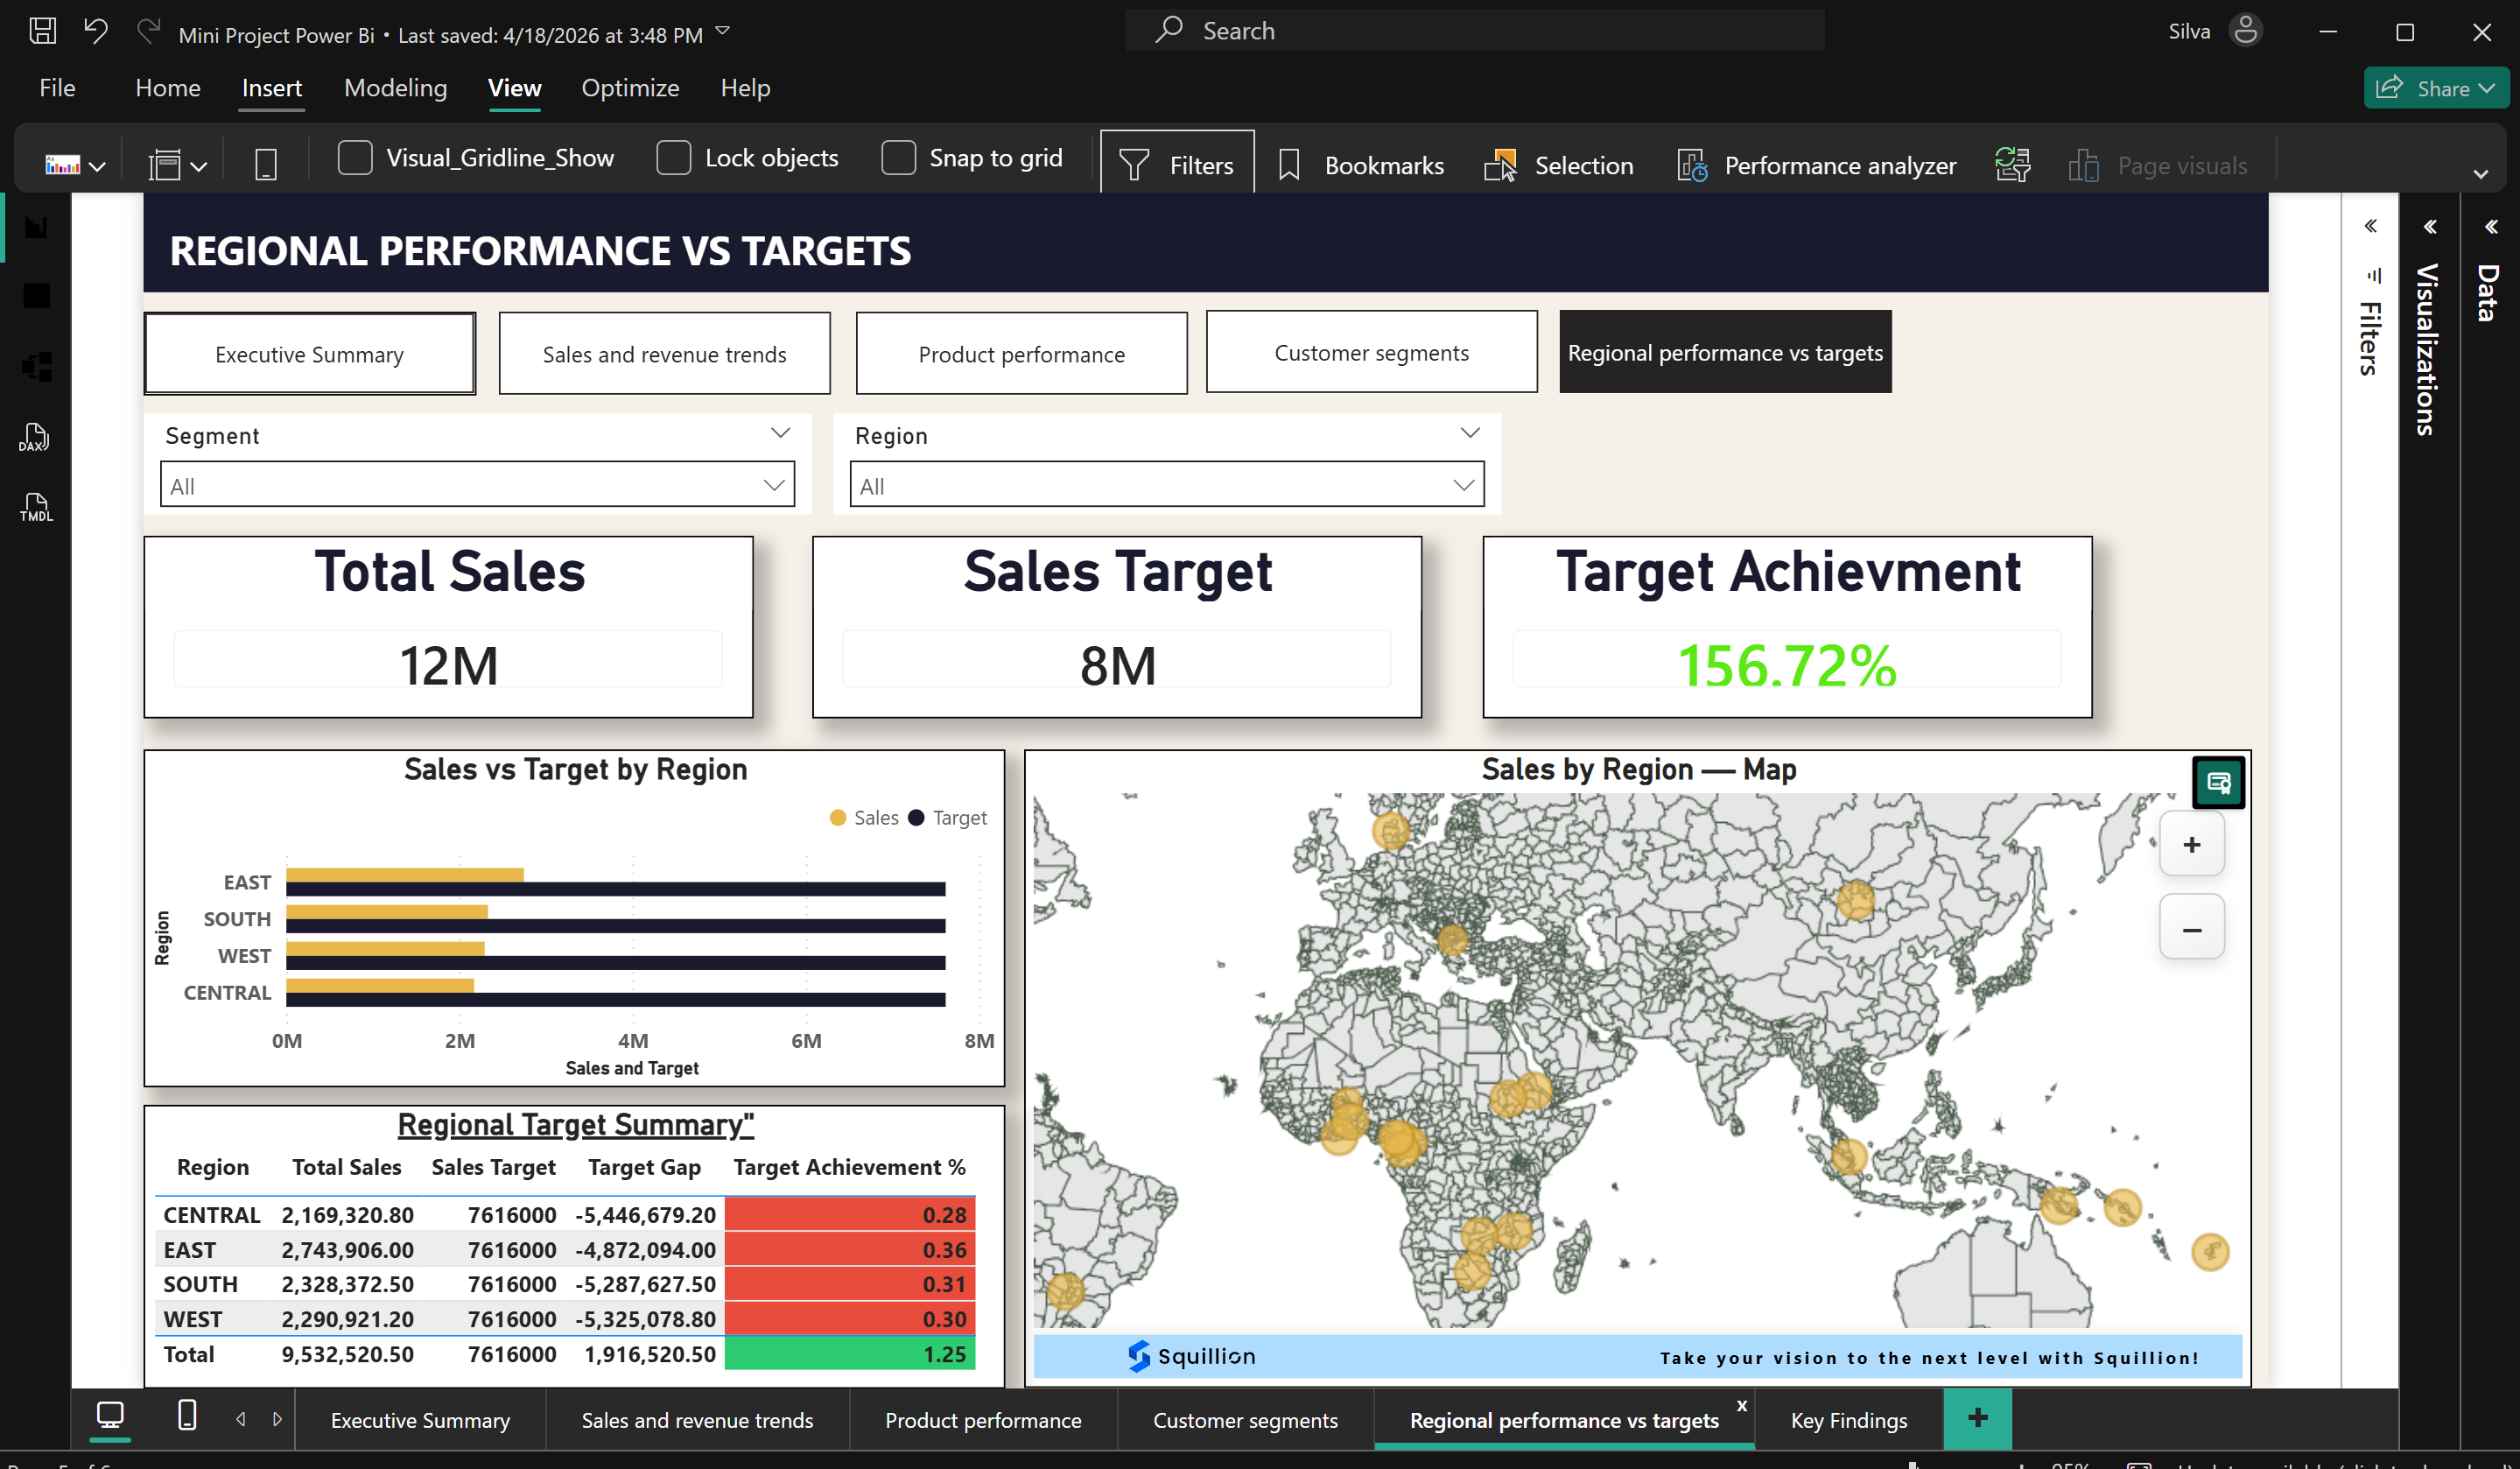

The dashboard page shown, as its layout file describes it:
{"tool":"powerbi","page":{"name":"Regional performance vs targets","canvas":[1280,720],"ordinal":4},"visuals":[{"type":"shape","box":[0,0,1280,60],"z":0},{"type":"pageNavigator","box":[0,72,200.6,50.5],"z":1000},{"type":"pageNavigator","box":[214.4,72,200.6,50.5],"z":2000},{"type":"pageNavigator","box":[428.7,72,200.6,50.5],"z":3000},{"type":"pageNavigator","box":[640,70.4,200.6,50.5],"z":4000},{"type":"pageNavigator","box":[852.8,70.4,200.6,50.5],"z":5000},{"type":"textbox","box":[10.7,12.2,473.1,47.5],"z":6000},{"type":"slicer","fields":{"Values":["Customers.Segment"]},"box":[0,133.2,402.7,61.2],"z":7000},{"type":"slicer","fields":{"Values":["Customers.Region"]},"box":[414.9,133.2,402.7,61.2],"z":8000},{"type":"cardVisual","title":"Total Sales","fields":{"Data":["Key Measures.Total Sales"]},"box":[0,206.7,367.5,110.2],"z":9000},{"type":"cardVisual","title":"Sales Target","fields":{"Data":["Key Measures.Sales Target"]},"box":[402.7,206.7,367.5,110.2],"z":10000},{"type":"cardVisual","title":"Target Achievment","fields":{"Data":["Key Measures.Target Achievement %"]},"box":[806.9,206.7,367.5,110.2],"z":11000},{"type":"clusteredBarChart","title":"Sales vs Target by Region","fields":{"Category":["Customers.Region"],"Y":["Key Measures.Total Sales","Key Measures.Sales Target"]},"box":[0,335.3,519,203.6],"z":12000},{"type":"MapBySquillion","title":"Sales by Region — Map","fields":{"category":["Customers.Region"],"value":["Key Measures.Total Sales"],"bubble":["Key Measures.Total Sales"]},"box":[529.8,335.3,739.5,384.3],"z":13000},{"type":"tableEx","title":"Regional Target Summary\"","fields":{"Values":["Customers.Region","Key Measures.Total Sales","Key Measures.Sales Target","Key Measures.Target Gap","Key Measures.Target Achievement %"]},"box":[0,549,519,171],"z":14000}]}

Visuals, with their boxes on the page's 1280x720 design canvas (x1, y1, x2, y2). These are canvas units, not pixel positions in the 2520x1469 screenshot, which may show the page scaled, cropped or inside an application window:
shape: [0, 0, 1280, 60]
pageNavigator: [0, 72, 201, 122]
pageNavigator: [214, 72, 415, 122]
pageNavigator: [429, 72, 629, 122]
pageNavigator: [640, 70, 841, 121]
pageNavigator: [853, 70, 1053, 121]
textbox: [11, 12, 484, 60]
slicer - Customers.Segment: [0, 133, 403, 194]
slicer - Customers.Region: [415, 133, 818, 194]
"Total Sales" cardVisual: [0, 207, 368, 317]
"Sales Target" cardVisual: [403, 207, 770, 317]
"Target Achievment" cardVisual: [807, 207, 1174, 317]
"Sales vs Target by Region" clusteredBarChart: [0, 335, 519, 539]
"Sales by Region — Map" MapBySquillion: [530, 335, 1269, 720]
"Regional Target Summary"" tableEx: [0, 549, 519, 720]
